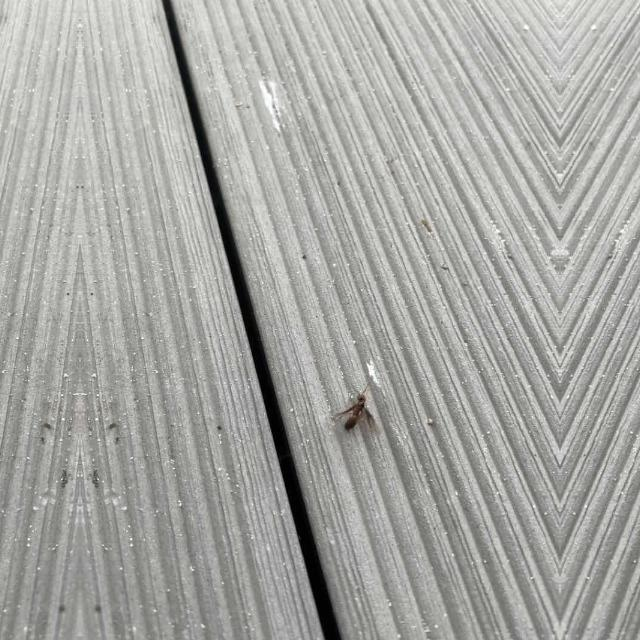Lasius: (338, 380, 372, 436)
